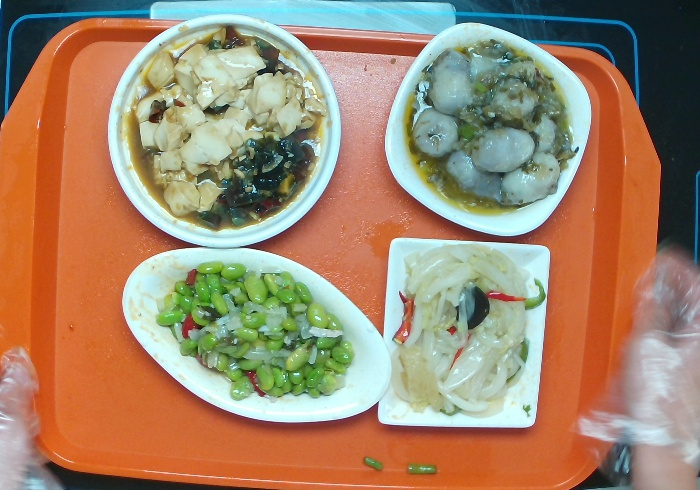HZYJPL-Si_Fang_Die: (363, 227, 559, 449)
HZYJPL-Si_Fang_Yuan_Die: (381, 10, 603, 244)
HZYJPL-Xiao_Yu_Die: (114, 239, 395, 432)
HZYJPL-Xiao_Yuan_Die: (104, 10, 352, 254)
